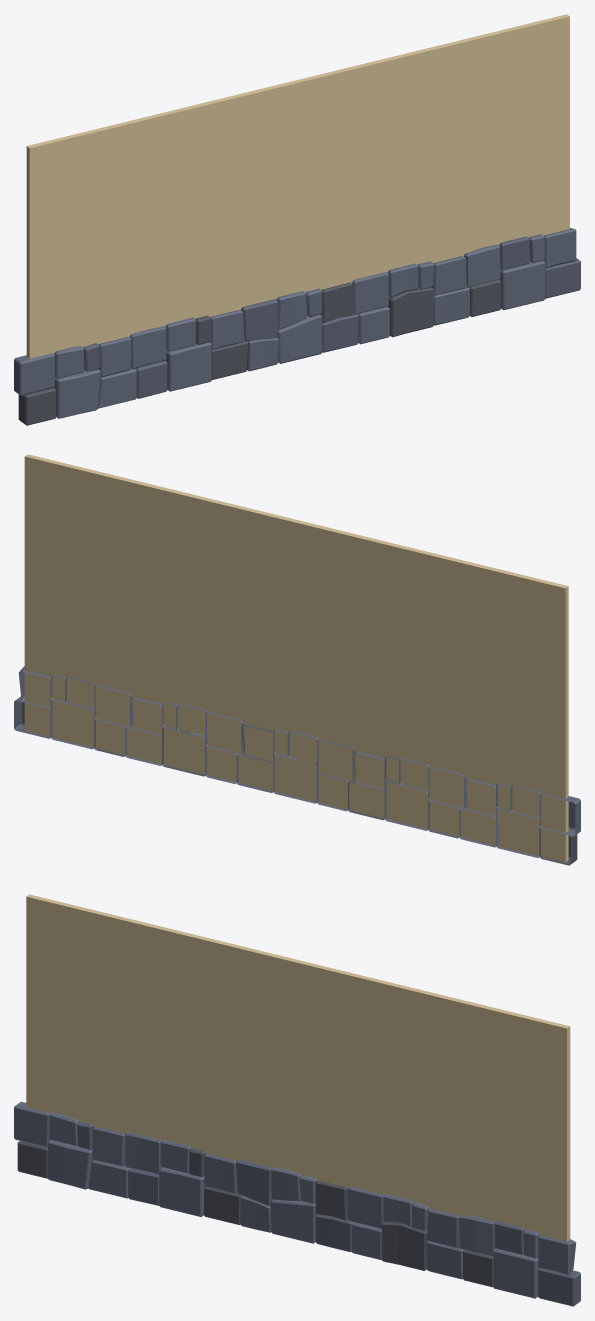
The model's file is Wall_01.fbx.
3 renders of one model, top to bottom at view 1: azimuth 30°, elevation 25°; view 2: azimuth 150°, elevation 25°; view 3: azimuth 330°, elevation 25°, orthographic.
Visible parts, largest first — view 1: Wall_01; view 2: Wall_01; view 3: Wall_01.
Boxes of the visible parts, x1,y1,x2,y2 form: Wall_01: (14, 14, 580, 425); Wall_01: (14, 454, 580, 865); Wall_01: (14, 894, 580, 1306).
Bounding box in the file's own units: 5.96 × 2.79 × 0.1664.
